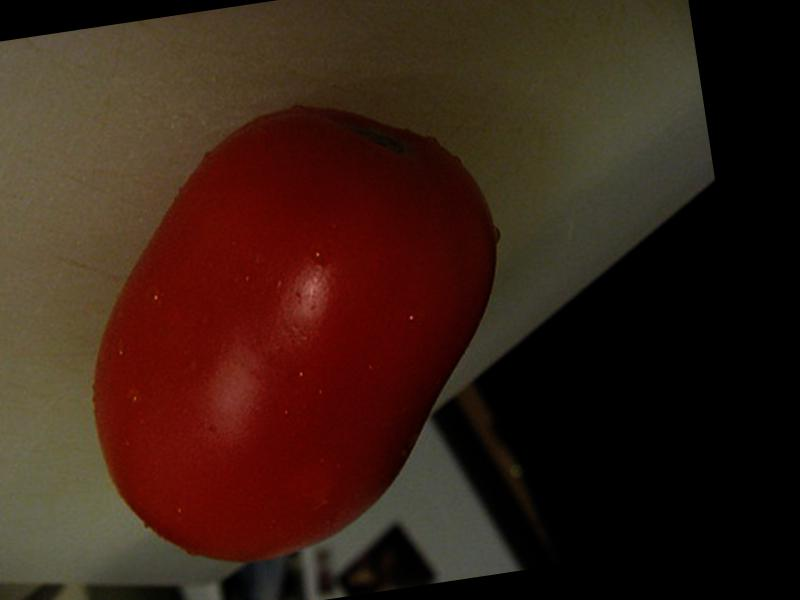Tomato: (56, 83, 538, 582)
